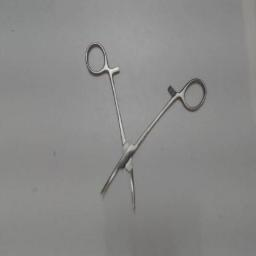Crile Artery Forceps: (82, 40, 210, 212)
